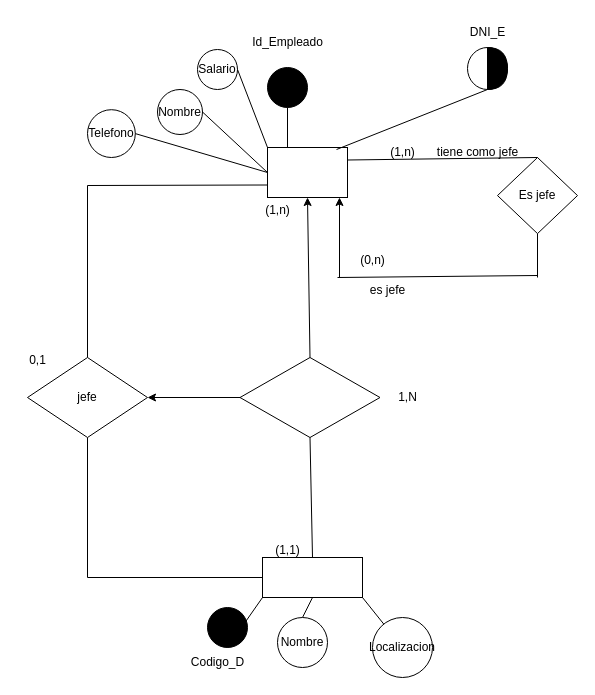
Some shapes in this 595 by 695 pixel diagram are drawn without their labels. The shapes that lost their labels are listed below. From the top down, each one's centre as x and y in pixels, then its label:
the point at 307,172: Empleado
the point at 309,397: Pertenece
the point at 312,577: Departamento
